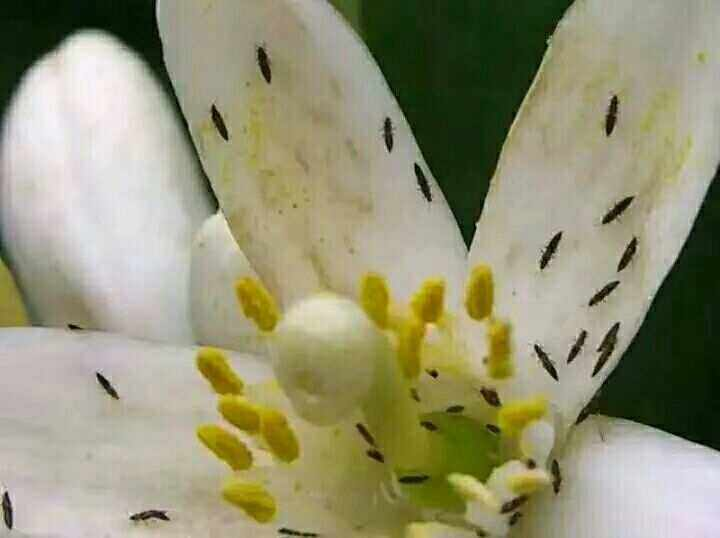thrips: (527, 341, 560, 382), (600, 193, 636, 227), (536, 230, 564, 272), (411, 160, 435, 204), (589, 339, 616, 378), (591, 318, 621, 352), (209, 100, 233, 142), (253, 40, 274, 85), (615, 232, 638, 273), (603, 90, 621, 140), (377, 113, 398, 154), (588, 279, 621, 305), (94, 368, 119, 401), (128, 507, 171, 526), (566, 327, 585, 365), (2, 487, 14, 529), (551, 454, 563, 495), (397, 472, 432, 484), (355, 424, 375, 445), (445, 402, 467, 413), (421, 417, 438, 430), (485, 421, 500, 435)
